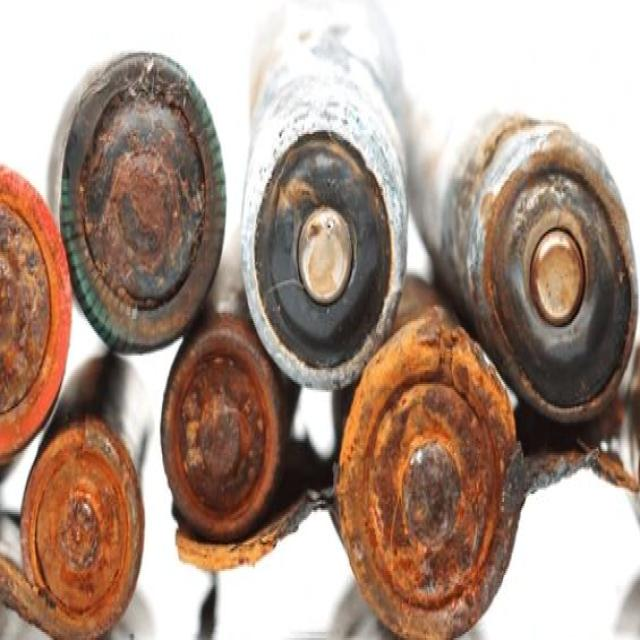electronic: (233, 7, 441, 408)
